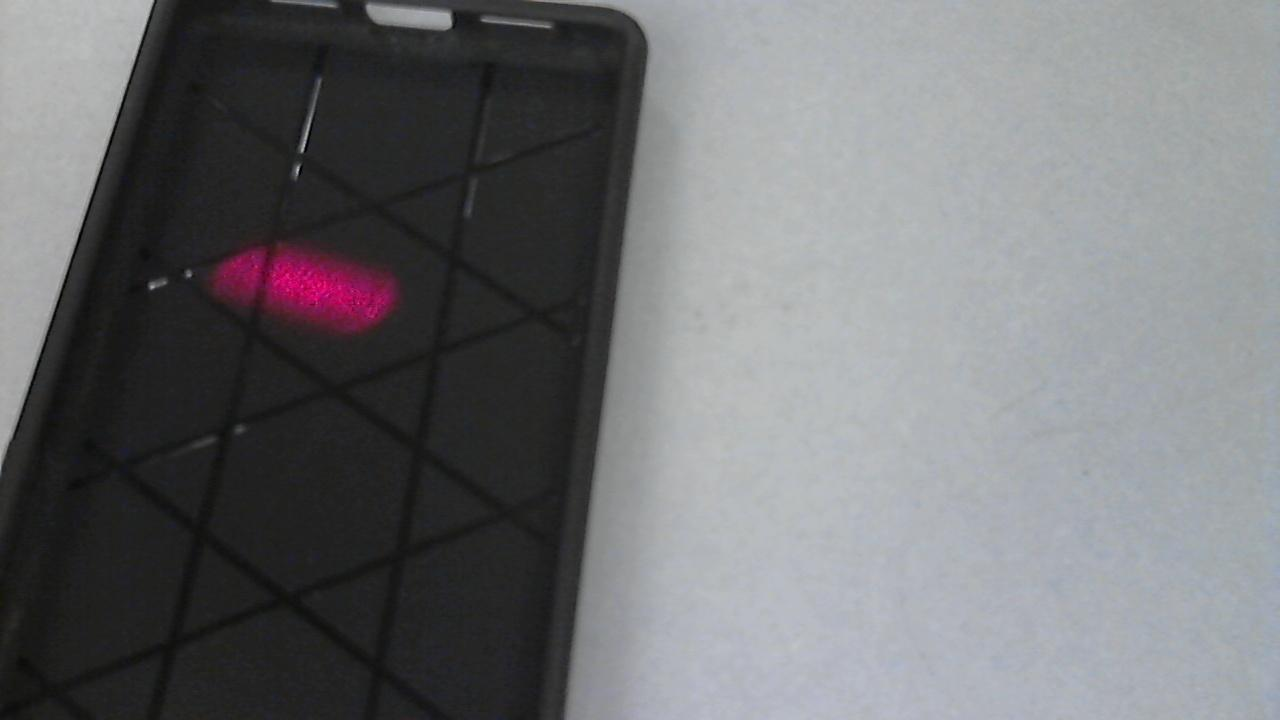Object protective phone case - Material rubber - Pdfname asdfeafgta: (198, 238, 408, 342)
